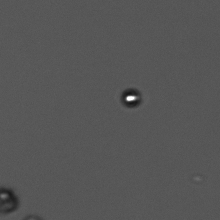Dead Cell: (114, 85, 145, 111)
Living Cell: (1, 187, 20, 214)
